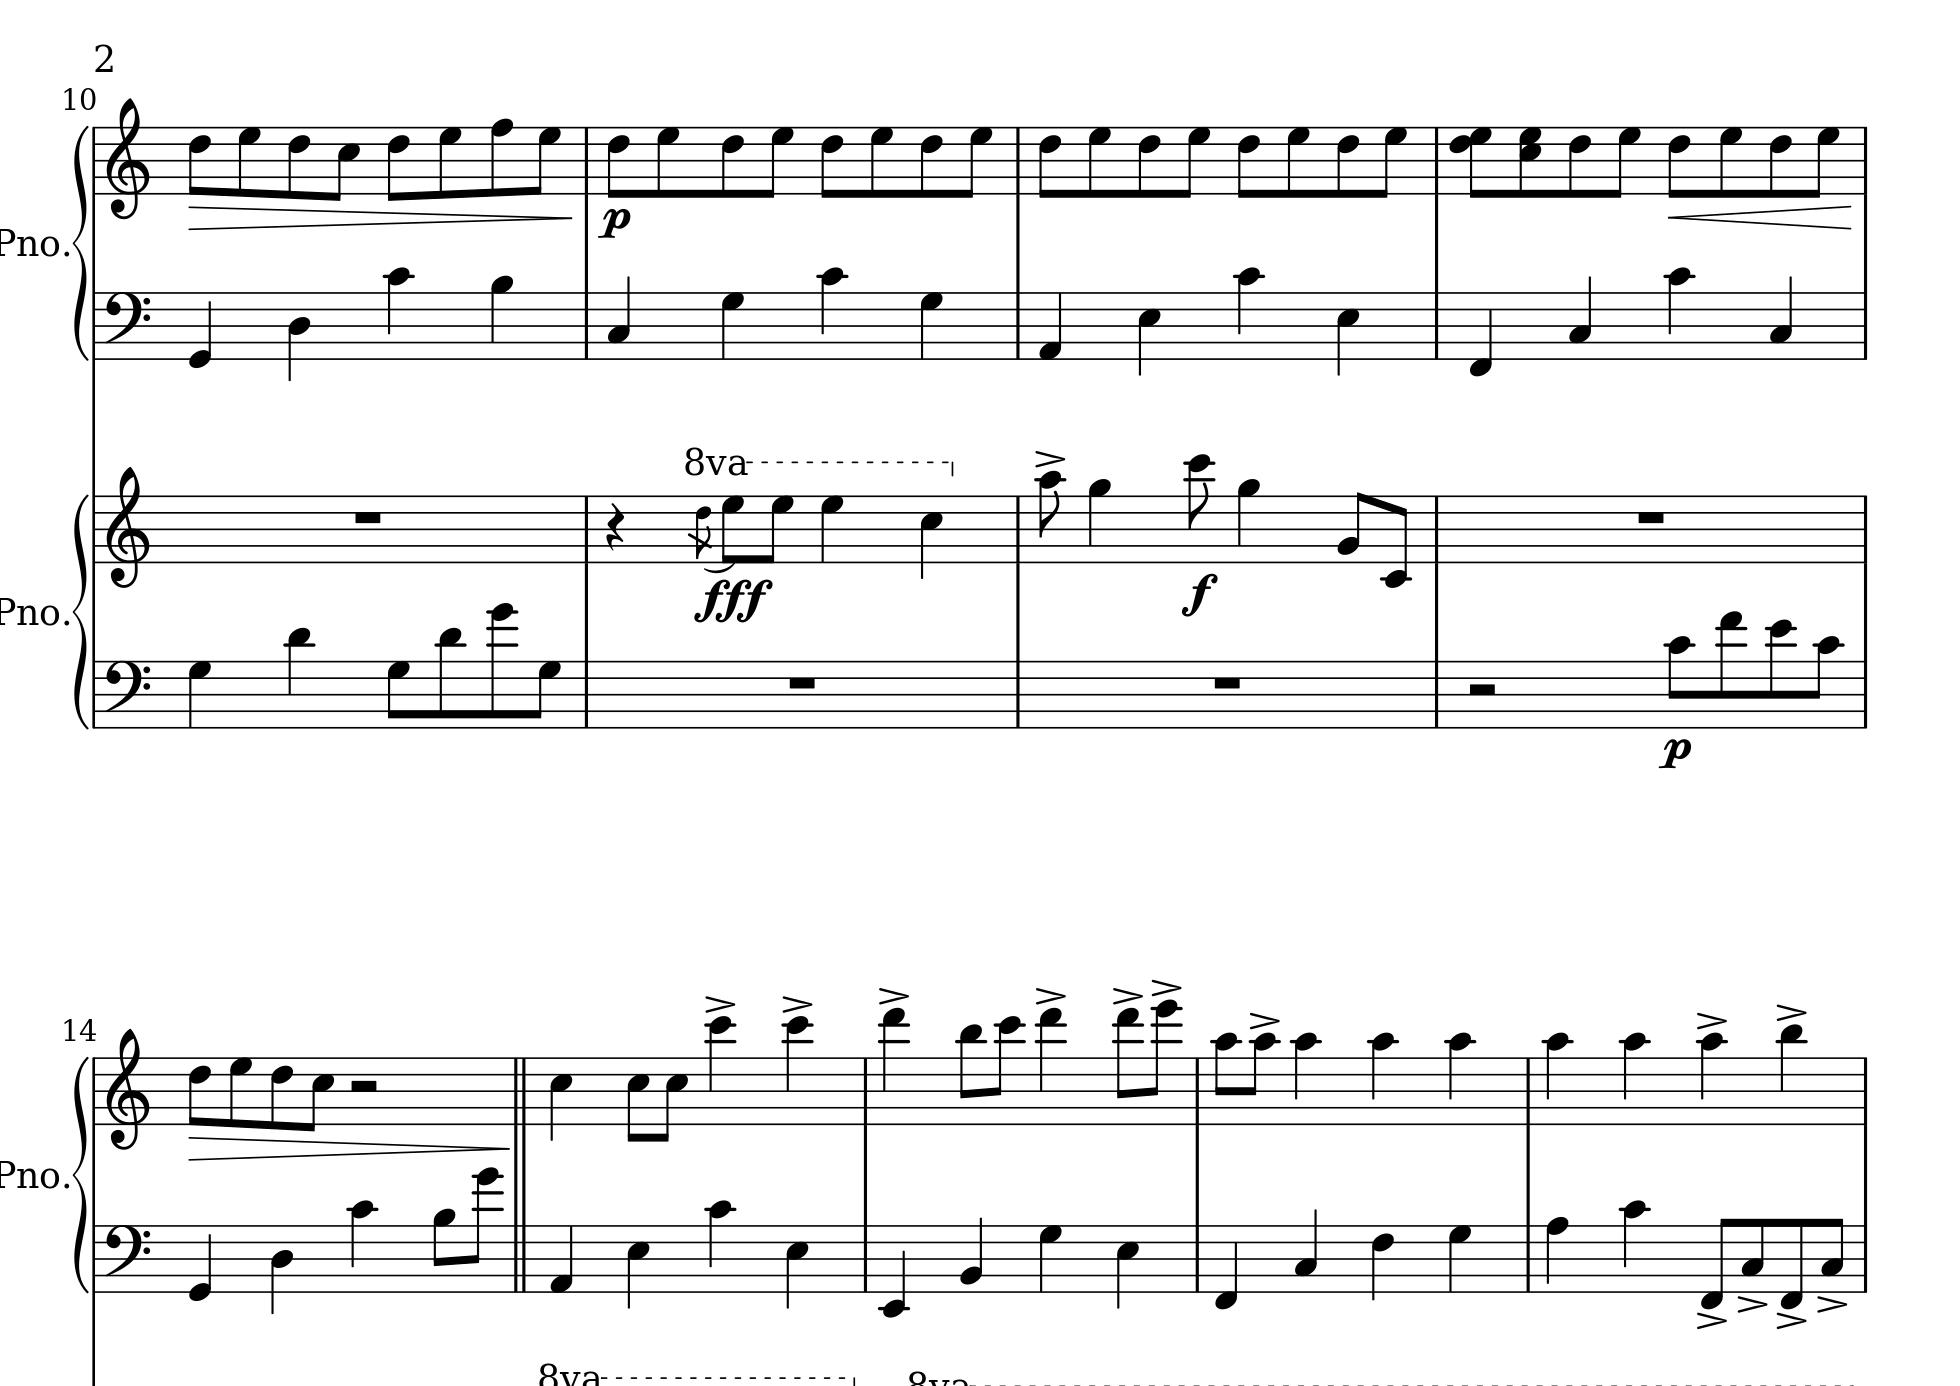0: (79, 85, 96, 112)
1: (61, 1015, 76, 1044), (61, 85, 76, 112)
2: (91, 42, 114, 72)
4: (79, 1015, 97, 1042)
4_-1: (1467, 289, 1495, 378), (1213, 1222, 1240, 1311)
4_-2: (880, 1222, 907, 1318)
4_0: (187, 289, 214, 369), (187, 1222, 214, 1302)
4_1: (1038, 289, 1065, 361), (547, 1224, 574, 1294)
4_10: (1698, 1030, 1728, 1128), (817, 265, 847, 361), (1665, 265, 1695, 361), (1368, 1030, 1398, 1126), (1620, 1030, 1650, 1126), (346, 1198, 376, 1294), (1234, 265, 1263, 363), (1291, 1030, 1320, 1128), (1620, 1197, 1648, 1294), (384, 265, 412, 361), (1446, 1030, 1474, 1126), (1543, 1030, 1572, 1126), (706, 1198, 733, 1294)
4_11: (285, 625, 313, 730), (1777, 1021, 1806, 1126)
4_12: (705, 1012, 735, 1126), (783, 1012, 813, 1126)
4_13: (879, 1006, 909, 1126), (1036, 1006, 1066, 1126)
4_2: (958, 1213, 987, 1294)
4_3: (1768, 274, 1795, 361), (1567, 274, 1593, 361), (606, 274, 631, 360), (1294, 1207, 1320, 1291)
4_4: (285, 289, 312, 382), (268, 1222, 295, 1315)
4_5: (1335, 289, 1362, 379), (1114, 1222, 1141, 1311), (918, 493, 945, 580), (547, 1054, 573, 1143), (625, 1222, 651, 1311), (784, 1222, 810, 1311), (1137, 289, 1162, 376)
4_6: (1369, 1222, 1396, 1302)
4_7: (718, 289, 745, 361), (918, 289, 945, 360), (186, 658, 213, 729), (1038, 1222, 1065, 1293), (1446, 1222, 1473, 1293), (819, 493, 844, 565)
4_8: (1543, 1215, 1572, 1294)
4_9: (1086, 475, 1113, 565), (1236, 475, 1263, 565), (489, 274, 514, 361)
8_-1: (1698, 1215, 1732, 1309), (1779, 1215, 1806, 1309)
8_-2: (1381, 493, 1413, 589)
8_10: (1809, 634, 1843, 730), (1246, 1030, 1279, 1126), (1036, 469, 1066, 565), (1665, 634, 1695, 729), (1212, 1030, 1240, 1126)
8_11: (436, 625, 465, 730), (958, 1021, 985, 1126)
8_12: (991, 1012, 1024, 1125), (1767, 616, 1797, 732), (1185, 451, 1215, 565)
8_13: (1716, 609, 1746, 730), (1113, 1005, 1143, 1126)
8_14: (465, 1165, 502, 1293), (1149, 999, 1182, 1125), (486, 601, 517, 729)
8_2: (1336, 489, 1368, 564)
8_3: (1740, 1216, 1767, 1293), (1819, 1216, 1846, 1293)
8_5: (658, 1054, 688, 1144), (328, 124, 361, 202), (304, 1056, 334, 1132), (625, 1054, 651, 1144)
8_6: (385, 124, 412, 202), (268, 1054, 295, 1132), (718, 124, 745, 199), (1036, 124, 1063, 199), (1236, 124, 1263, 199), (1335, 124, 1362, 199), (1767, 124, 1794, 199), (286, 124, 312, 202), (604, 124, 631, 198), (187, 124, 213, 199), (819, 124, 844, 199), (918, 124, 943, 199), (1137, 124, 1162, 199), (1567, 124, 1593, 199), (1666, 124, 1692, 199), (187, 1054, 213, 1129)
8_7: (958, 124, 993, 198), (1177, 124, 1212, 198), (760, 124, 793, 199), (1608, 124, 1641, 198), (1807, 124, 1840, 198), (760, 493, 793, 565), (529, 658, 562, 729), (1375, 124, 1407, 198), (529, 124, 561, 195), (235, 124, 262, 199), (436, 124, 463, 199), (226, 1054, 253, 1129), (1086, 124, 1113, 198), (1285, 124, 1311, 199), (1717, 124, 1743, 199), (655, 124, 681, 198), (868, 124, 894, 198), (720, 493, 745, 565), (385, 658, 411, 730)
8_8: (487, 115, 514, 199)
8_9: (430, 1206, 456, 1294)
Accent_above: (1776, 1000, 1809, 1021), (1248, 1009, 1281, 1030), (1695, 1009, 1728, 1030), (1815, 1291, 1848, 1312), (1695, 1309, 1728, 1330), (1149, 976, 1183, 996), (1033, 448, 1066, 468), (877, 985, 910, 1005), (1035, 985, 1068, 1005), (1111, 985, 1144, 1005), (703, 993, 736, 1012), (781, 993, 813, 1012), (1735, 1293, 1767, 1312), (1776, 1311, 1807, 1329)
Acciaccature: (688, 495, 717, 565)
Brace: (70, 1054, 90, 1293), (70, 490, 90, 727), (70, 124, 90, 360)
Crescendo_hairpin: (1668, 205, 1852, 232)
Diminuendo_hairpin: (187, 204, 576, 235), (187, 1135, 507, 1158)
Double_barline: (508, 1057, 532, 1123), (508, 1225, 532, 1291)
Fclef: (102, 1222, 151, 1294), (103, 289, 151, 360), (103, 658, 151, 729)
Gclef: (103, 96, 151, 220), (103, 1027, 151, 1150), (103, 465, 150, 588)
Pno: (1, 1156, 60, 1194), (1, 223, 60, 259), (1, 594, 58, 628)
Rests1: (349, 507, 385, 526), (1633, 507, 1669, 526), (784, 672, 820, 691), (1209, 672, 1245, 691)
Rests2: (346, 1075, 382, 1096), (1465, 679, 1500, 699)
Rests4: (604, 501, 627, 553)
Single_barline: (1518, 1057, 1539, 1123), (1855, 1224, 1875, 1293), (576, 660, 595, 727), (1855, 1057, 1875, 1123), (1428, 658, 1446, 727), (1428, 291, 1446, 358), (577, 495, 595, 562), (1426, 495, 1444, 562), (1428, 127, 1446, 193), (577, 292, 595, 358), (856, 1057, 874, 1123), (1188, 1057, 1206, 1123), (1521, 1224, 1539, 1290), (856, 1225, 874, 1291), (1857, 126, 1873, 193), (579, 127, 595, 195), (1857, 495, 1873, 562), (1009, 660, 1026, 727), (1857, 660, 1873, 727), (1189, 1224, 1206, 1291), (1011, 127, 1027, 193), (1009, 496, 1026, 562), (1011, 292, 1026, 358), (1857, 292, 1872, 358), (88, 291, 102, 358), (88, 126, 100, 193), (88, 495, 100, 562), (88, 1056, 100, 1123), (88, 661, 100, 727), (88, 1225, 100, 1291)
Slur: (702, 562, 733, 574)
f: (1179, 571, 1219, 616)
fff: (691, 574, 774, 625)
p: (1657, 736, 1695, 774), (598, 205, 631, 240)
